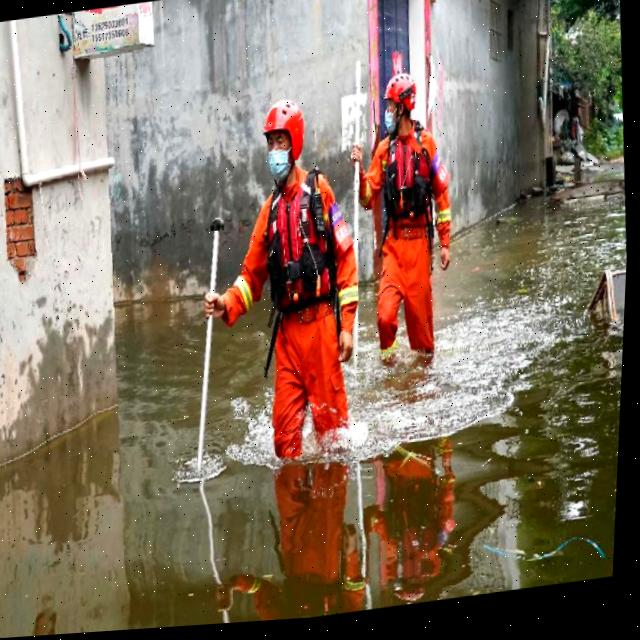rescuer: (175, 73, 387, 503), (331, 56, 473, 407)
